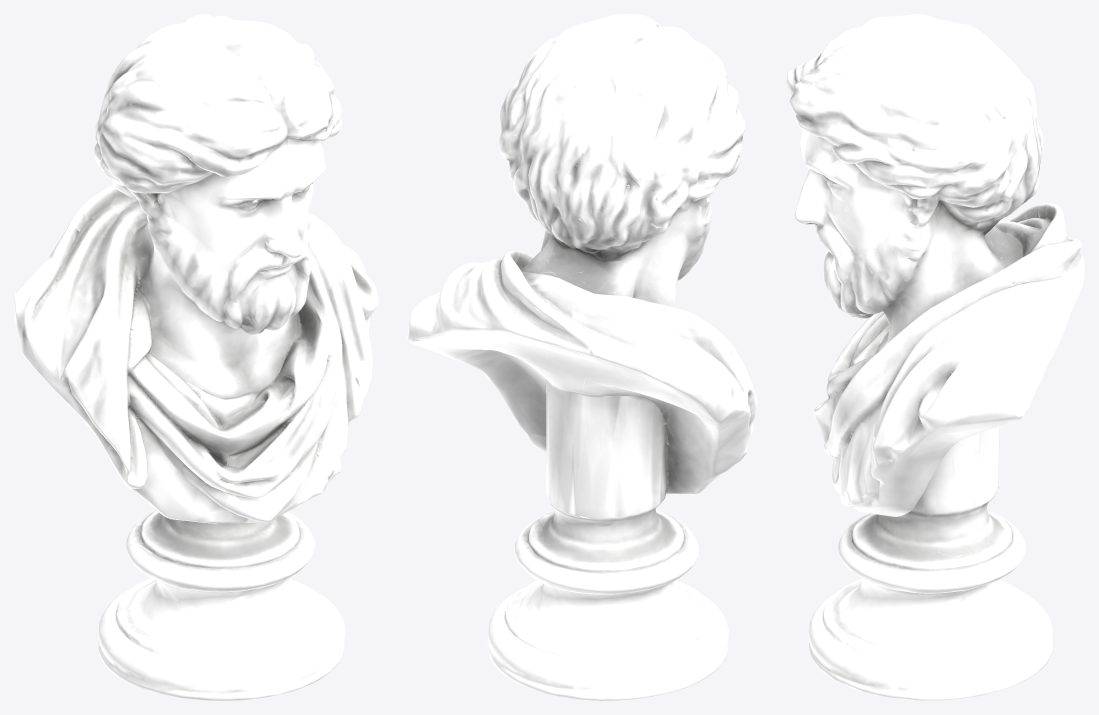
Rendered from bust_classical.glb.
3 renders of one model, left to right at view 1: azimuth 30°, elevation 25°; view 2: azimuth 150°, elevation 25°; view 3: azimuth 270°, elevation 25°, orthographic. The views are drawn at different scales.
Bounding box in the file's own units: 1.05 × 1.91 × 0.8369.
Materials: 1 (1 with a texture image).
